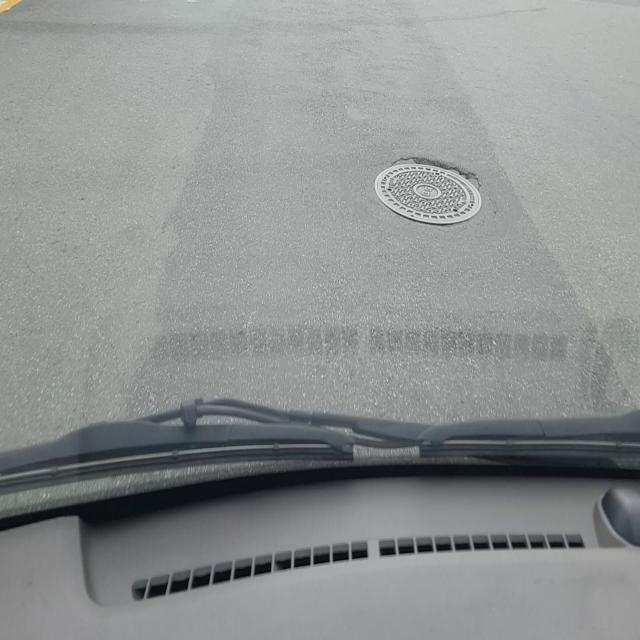pothole: (372, 155, 484, 229)
